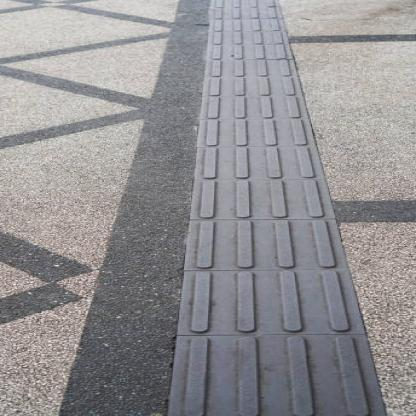podotacti: (172, 0, 385, 412)
